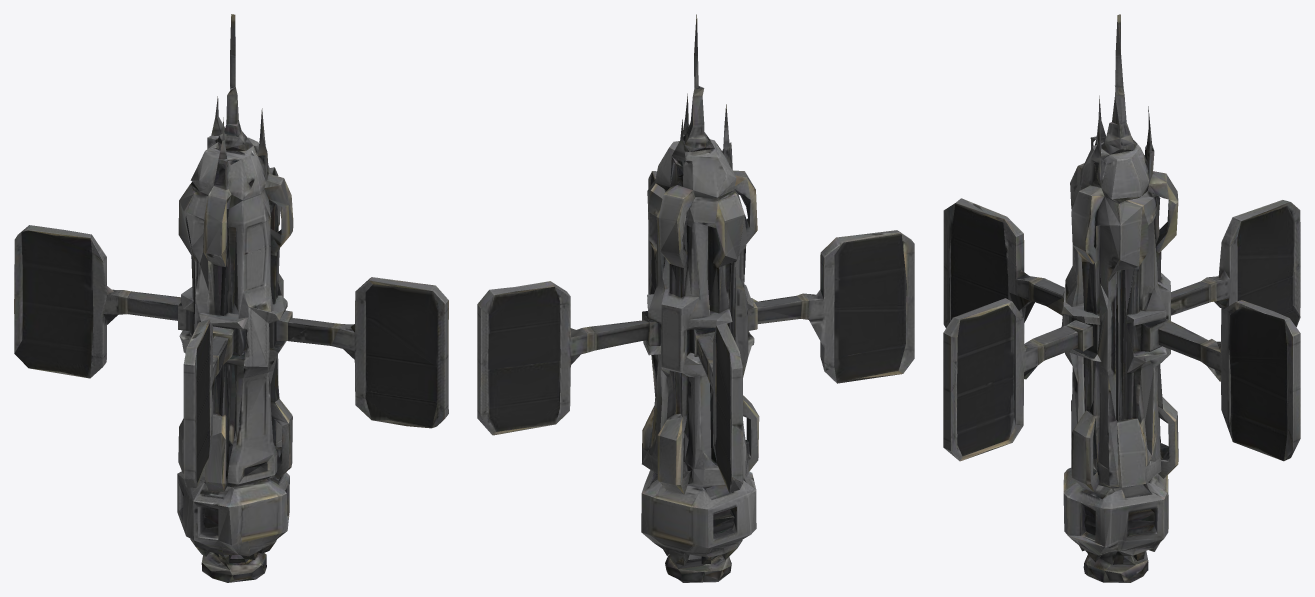
File: shared_system_claim_beacon_lod2.glb
3 views of the same model, side by side, from view 1: azimuth 30°, elevation 25°; view 2: azimuth 150°, elevation 25°; view 3: azimuth 270°, elevation 25° (orthographic).
Parts seen in each view (by area): view 1: mesh_node; view 2: mesh_node; view 3: mesh_node.
Boxes of the visible parts, <box> form: mesh_node: <box>14,14,448,582</box>; mesh_node: <box>477,14,914,582</box>; mesh_node: <box>943,14,1300,582</box>.
Bounding box in the file's own units: 9 × 18.31 × 10.47.
1 material, 1 textured.
